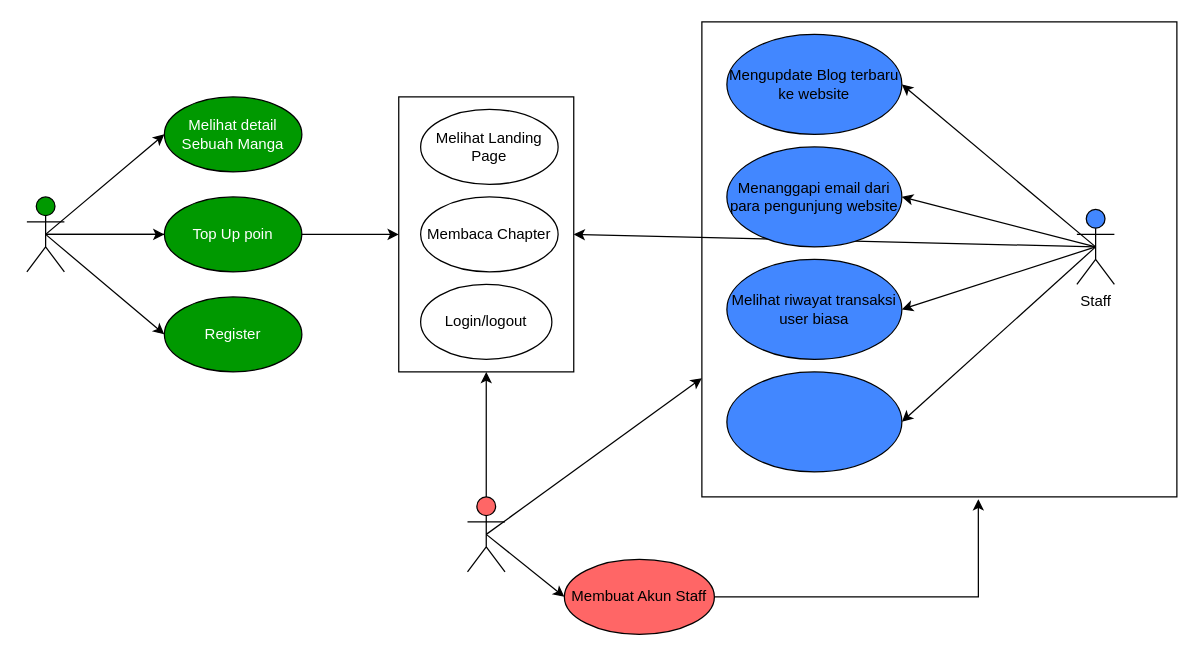
The diagram is 1199 pixels wide and 656 high, and some of its shapes have lost their labels. Here are the shapes that lost their labels. From the top down, the box of each, then its label:
(26, 196, 64, 272): Reader
(726, 371, 902, 472): Mengelola konten manga
(466, 496, 505, 572): Admin
